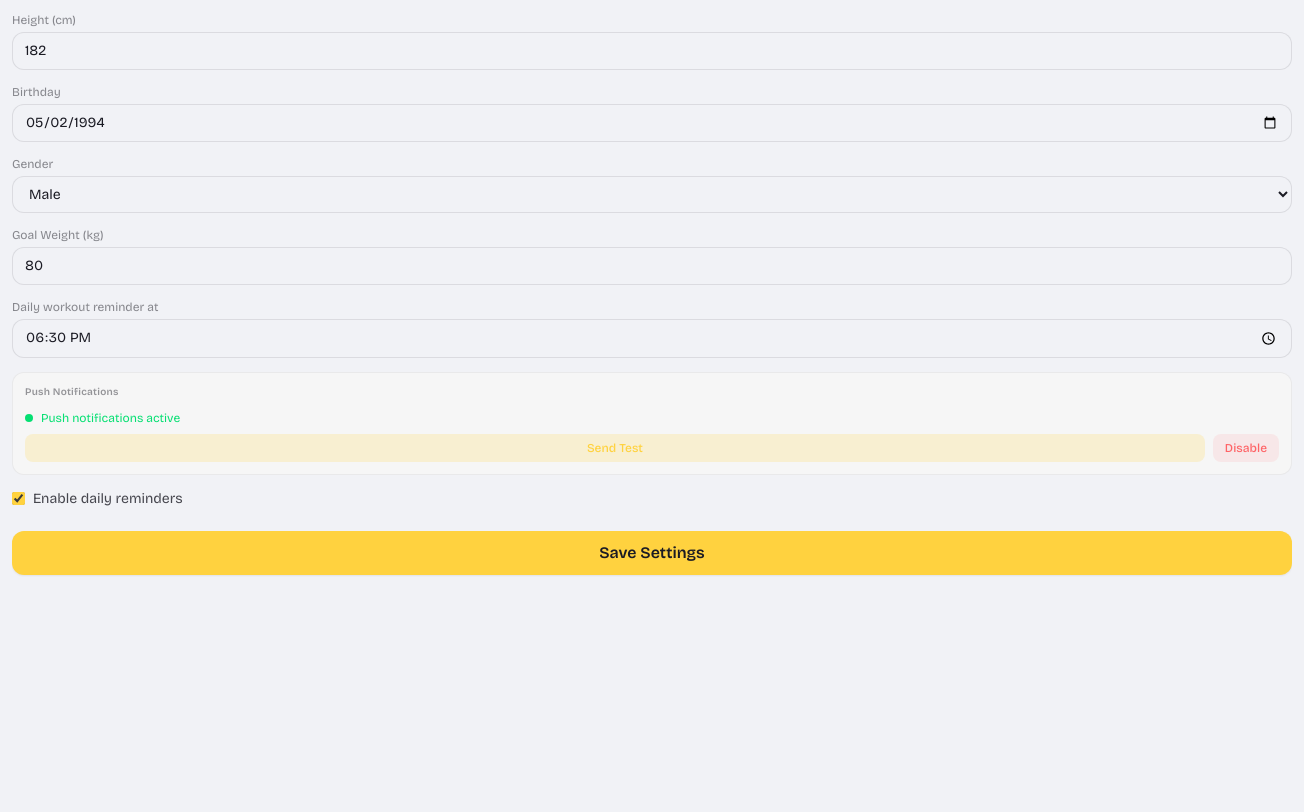
Test: HealthSettingsSection › disables push and returns to the Enable control
The image size is (1304, 812).
Click the button with aria-label "Disable push notifications". click: (1246, 448)
box: [1213,434,1279,462]
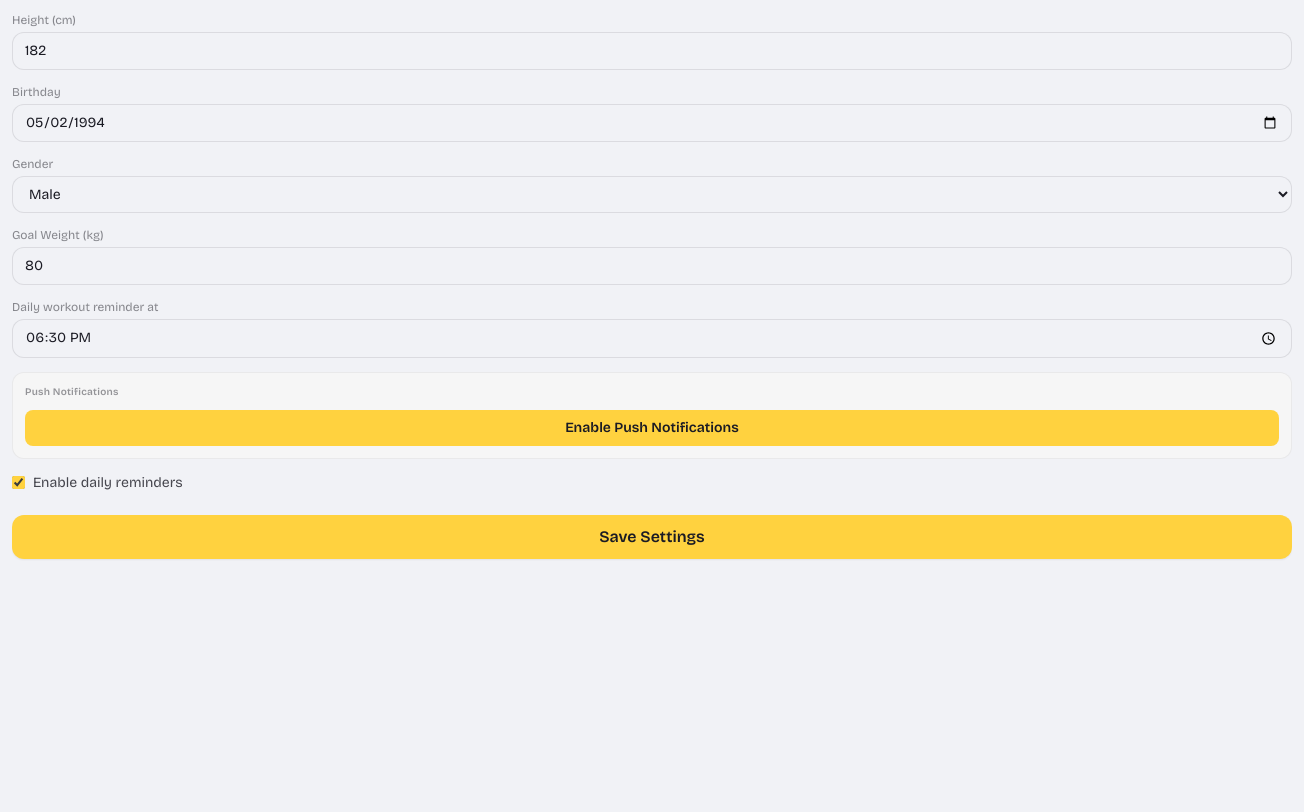
Check: the button "Enable Push Notifications" is shown, box [25,410,1279,446]
